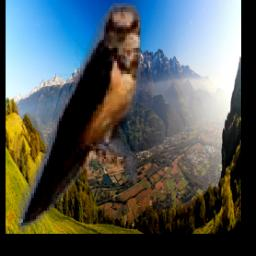Swallow: (19, 4, 142, 234)
